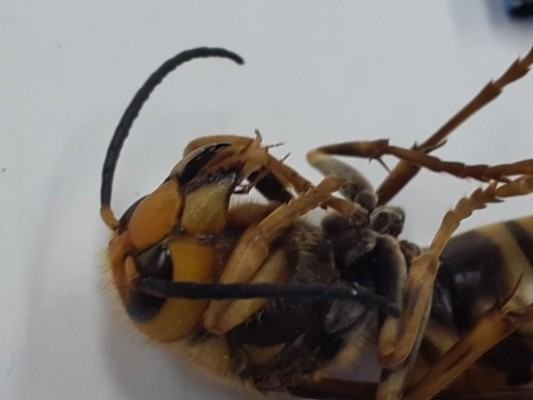asian_giant_hornet: (100, 102, 533, 400)
